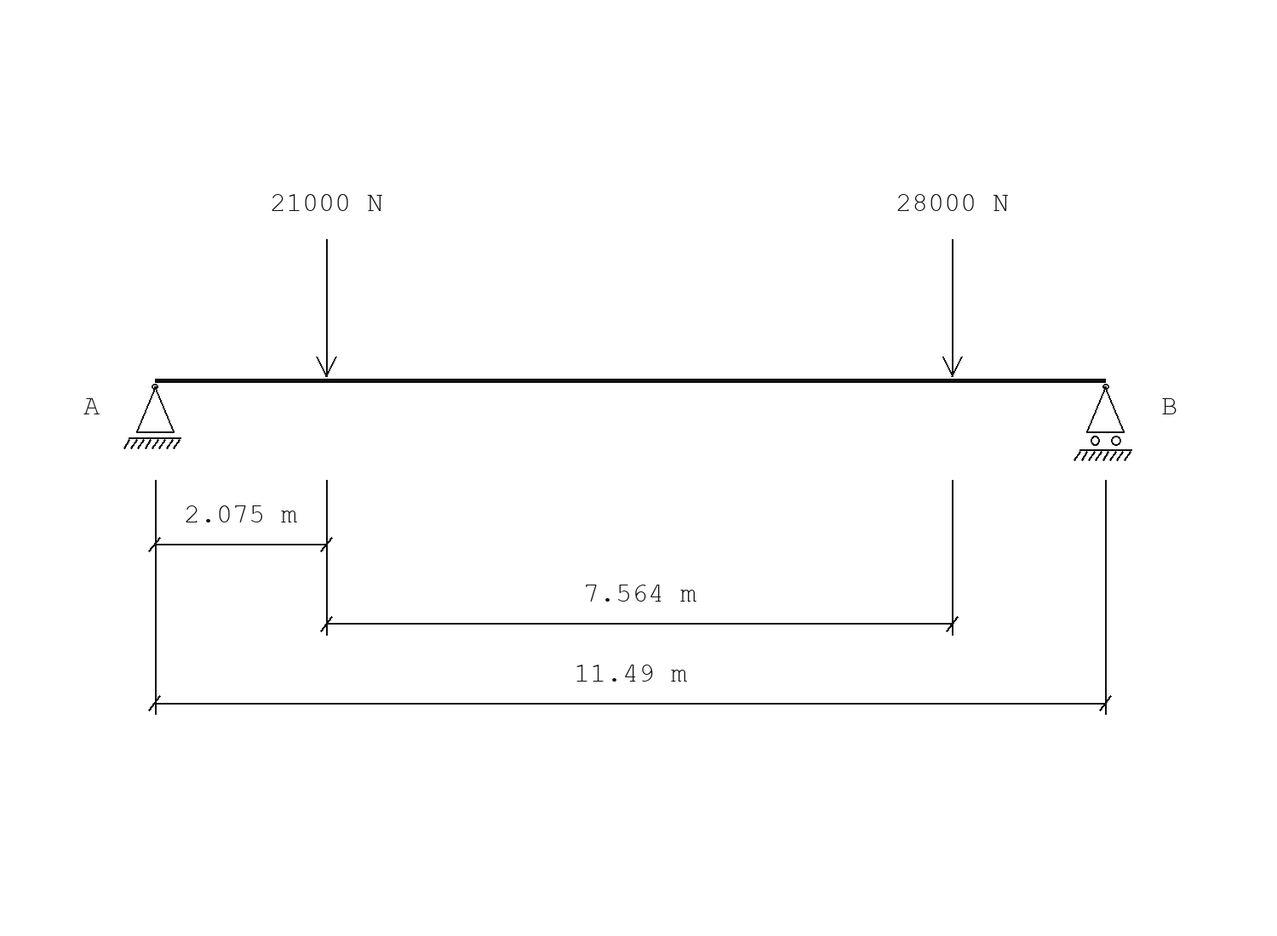pin_support: (123, 384, 181, 449)
point_load: (316, 239, 337, 377), (942, 239, 963, 377)
roller_support: (1074, 384, 1132, 461)
